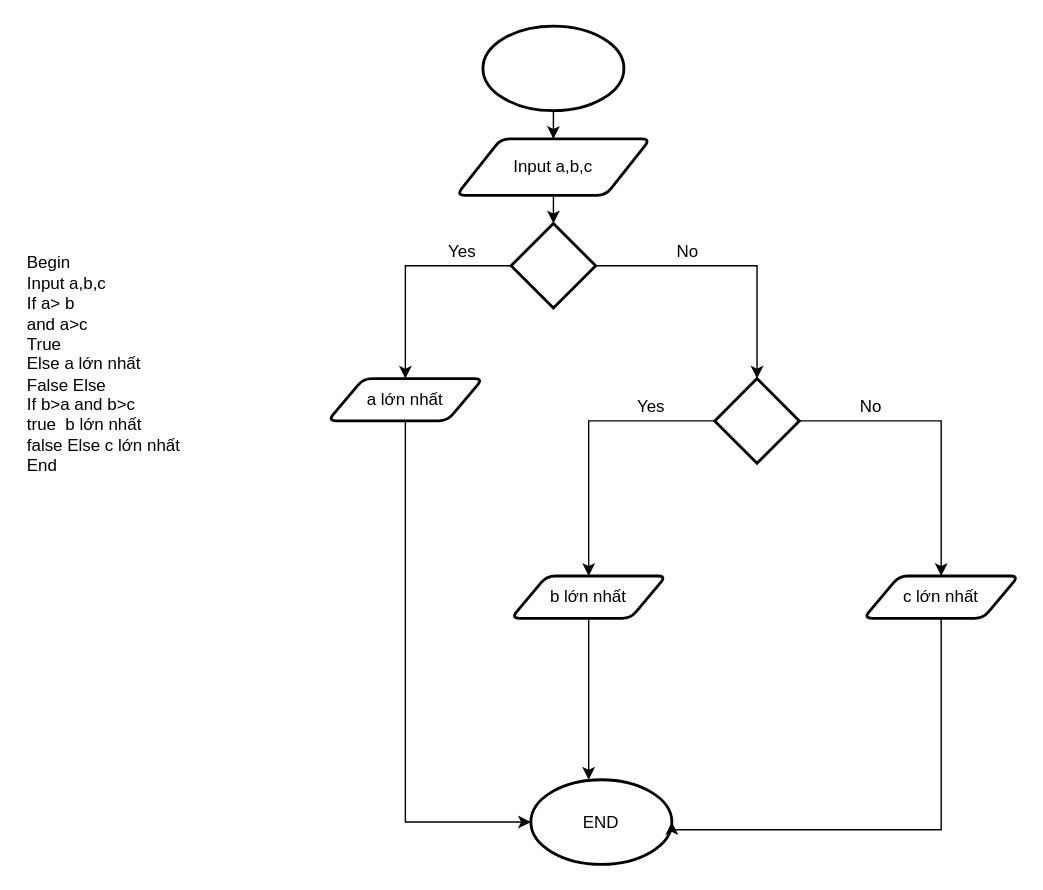
Some shapes in this 1043 by 890 pixel diagram are drawn without their labels. Here are the shapes that lost their labels. From the top down, the box of each, then its label:
(481, 24, 625, 111): BEGIN
(509, 221, 596, 309): ( a > b ) ( a > c )
(713, 376, 800, 464): b > a b > c
